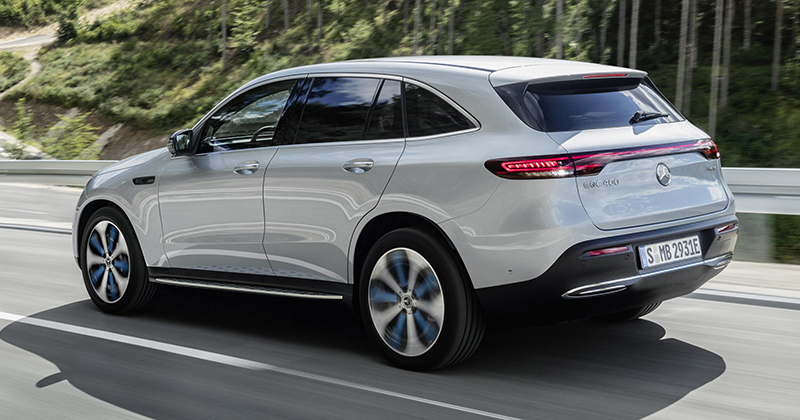pickup: (69, 53, 739, 373)
